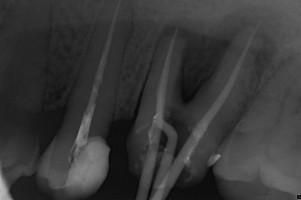Dental Caries: (158, 10, 260, 102)
Furcation Involvement: (255, 28, 279, 79)
